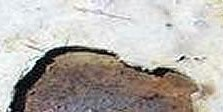Corrosion: (6, 45, 200, 112)
